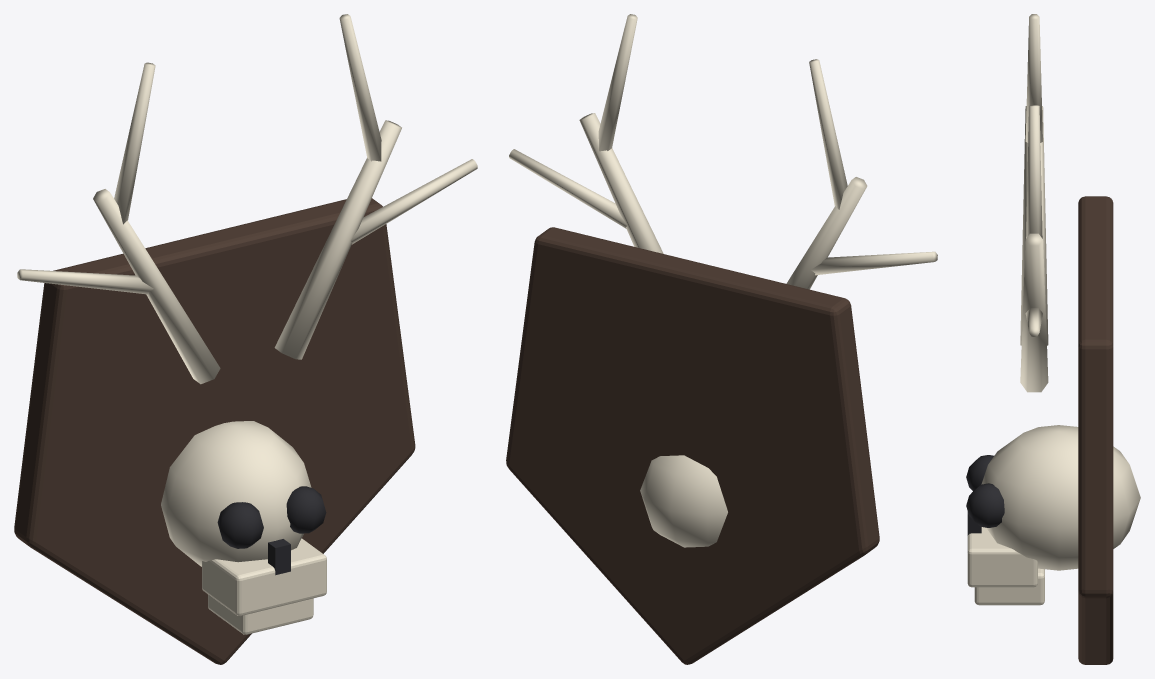
The model's file is skull_mount_stag.glb.
3 views of the same model, side by side, from view 1: azimuth 30°, elevation 25°; view 2: azimuth 150°, elevation 25°; view 3: azimuth 270°, elevation 25° (orthographic). The views are drawn at different scales.
Visible parts, largest first — view 1: GD_skull_mount_stag__m0, GD_skull_mount_stag__m1, GD_skull_mount_stag__m2; view 2: GD_skull_mount_stag__m0, GD_skull_mount_stag__m1; view 3: GD_skull_mount_stag__m1, GD_skull_mount_stag__m0, GD_skull_mount_stag__m2.
Part boxes in pixels (x1,y1,x2,y2): GD_skull_mount_stag__m0: [14, 198, 415, 664]; GD_skull_mount_stag__m1: [17, 14, 477, 634]; GD_skull_mount_stag__m2: [217, 486, 326, 575]; GD_skull_mount_stag__m0: [506, 227, 879, 664]; GD_skull_mount_stag__m1: [509, 14, 937, 547]; GD_skull_mount_stag__m1: [967, 14, 1140, 605]; GD_skull_mount_stag__m0: [1078, 196, 1113, 664]; GD_skull_mount_stag__m2: [966, 455, 1004, 535].
Bounding box in the file's own units: 0.5631 × 0.7579 × 0.1988.
